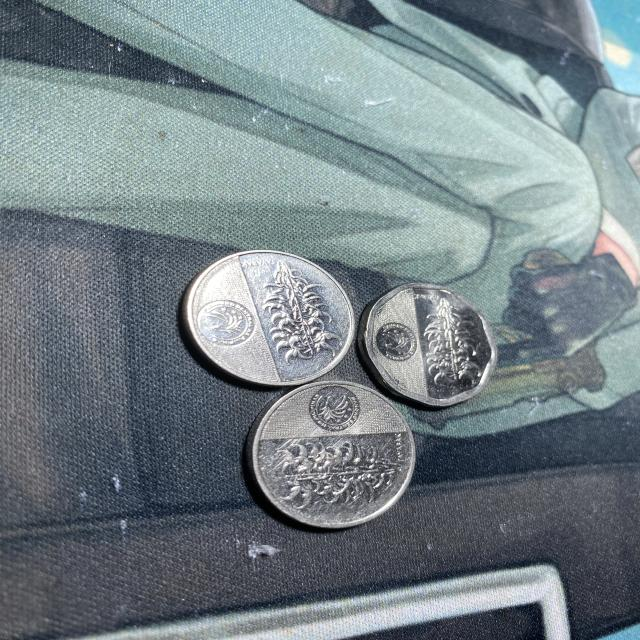5_New_Back: (255, 262, 334, 360), (281, 444, 398, 505), (411, 286, 480, 381)
